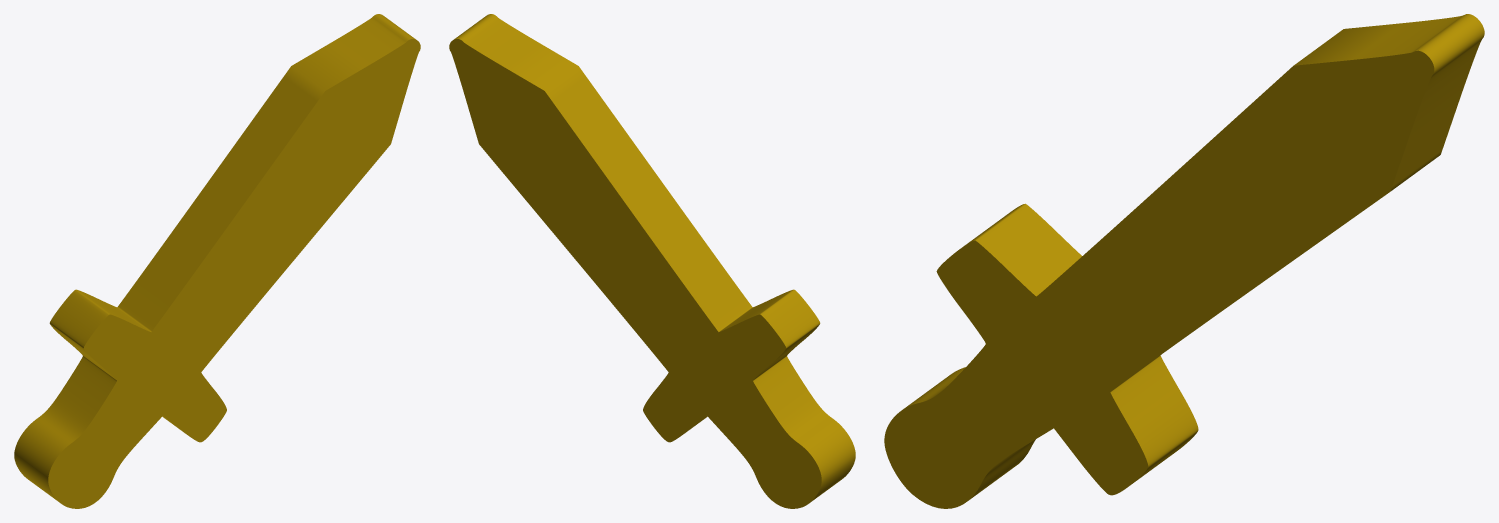
The model's file is Sword.obj.
3 views of the same model, side by side, from view 1: azimuth 30°, elevation 25°; view 2: azimuth 150°, elevation 25°; view 3: azimuth 330°, elevation 25° (orthographic). The views are drawn at different scales.
Visible parts, largest first — view 1: Curve.001_path22; view 2: Curve.001_path22; view 3: Curve.001_path22.
Part boxes in pixels (box(x1,y1,x2,y2)): Curve.001_path22: box(14, 14, 420, 508); Curve.001_path22: box(449, 14, 855, 508); Curve.001_path22: box(884, 14, 1484, 508).
Size of the model in its own units: 0.5056 by 0.5046 by 0.08.
